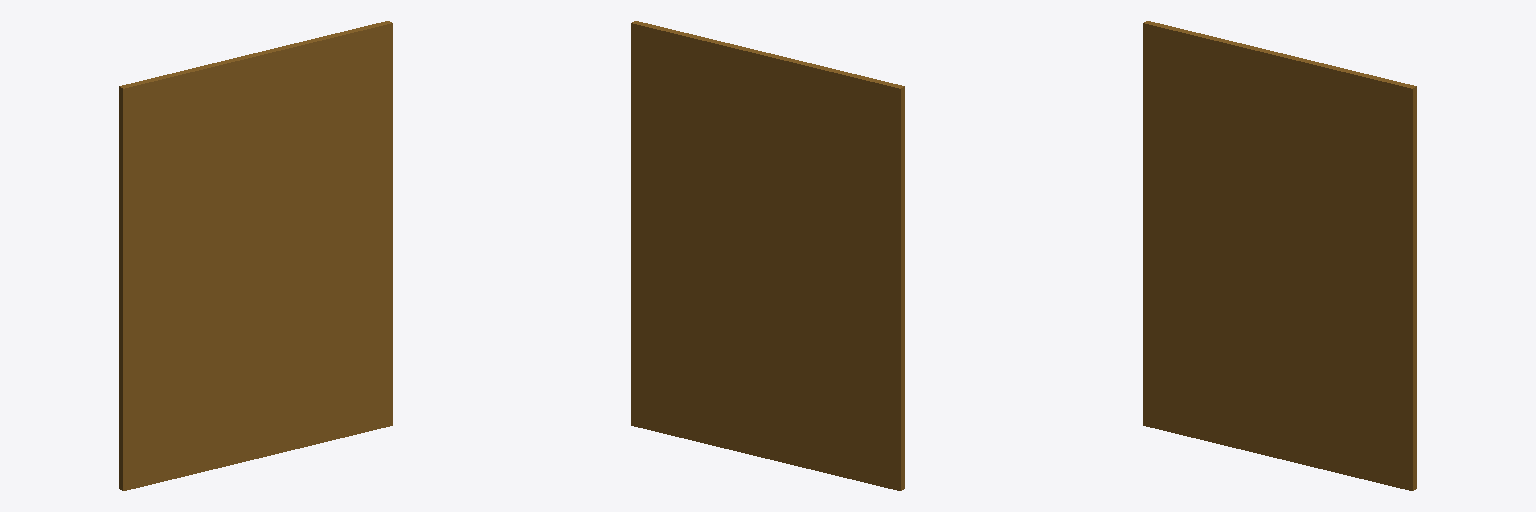
URDF robot description (shelf_back_board.urdf):
<?xml version="0.0" ?>
<robot name="shelf_back_board.urdf">
  <link name="baseLink">
    <contact>
      <lateral_friction value="0.2"/>
      <rolling_friction value="0.0001"/>
      <inertia_scaling value="3.0"/>
    </contact>
    <inertial>
      <origin rpy="0 0 0" xyz="0 0 0"/>
       <mass value="10"/>
       <inertia ixx="1" ixy="0" ixz="0" iyy="1" iyz="0" izz="1"/>
    </inertial>
    <visual>
      <origin rpy="0 0 0" xyz="0 0 0"/>
      <geometry>
        <mesh filename="shelf_back_board.stl"/>
      </geometry>
      <material name="wood">
        <color rgba="0.5882 0.4353 0.2 1"/>
      </material>
    </visual>
    <collision>
      <origin rpy="0 0 0" xyz="0 0 0"/>
      <geometry>
        <mesh filename="shelf_back_board.stl"/>
      </geometry>
    </collision>
  </link>
</robot>

--- What the picture shows (computed from the rendered views, not written in the file) ---
The picture shows the robot from 3 angles, left to right: view 1: azimuth 30°, elevation 25°; view 2: azimuth 150°, elevation 25°; view 3: azimuth 330°, elevation 25°; orthographic projection.
Robot: shelf_back_board.urdf — 1 links, 0 joints (none); root link baseLink; default pose: every joint at zero.
Visible links, largest first — view 1: baseLink; view 2: baseLink; view 3: baseLink.
Boxes of the visible links, x1,y1,x2,y2 form: baseLink: (119,21,392,490); baseLink: (631,21,904,490); baseLink: (1143,21,1416,490).
Size in the robot's own frame: 0.42 by 0.01 by 0.6 metres.
Meshes: 1 distinct files referenced, 1 mesh visuals loaded (1 binary STL).